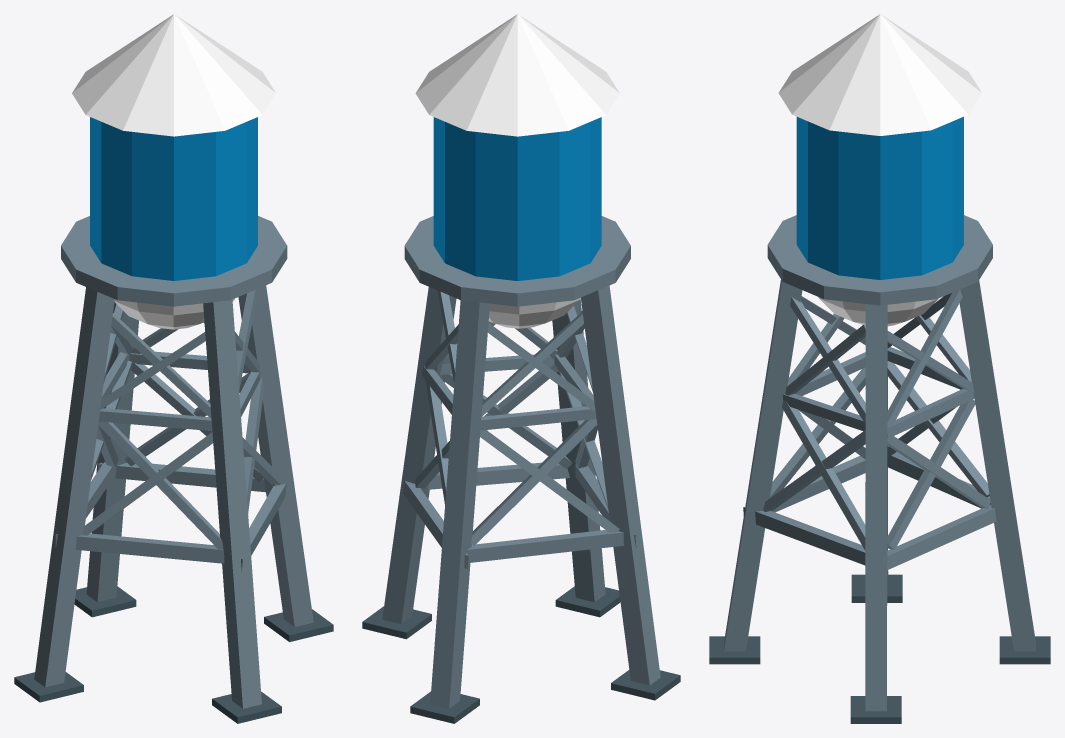
File: water tower.obj
3 views of the same model, side by side, from view 1: azimuth 30°, elevation 25°; view 2: azimuth 150°, elevation 25°; view 3: azimuth 270°, elevation 25° (orthographic).
Parts seen in each view (by area): view 1: group692706810, group413680445, group716373101, group1610138199, group1281034951, group794897842, group2114125086, group1146857087, group1001244296, group840320243, group1370172831, group1388263329 (+13 smaller); view 2: group692706810, group413680445, group2114125086, group1610138199, group1281034951, group794897842, group716373101, group144938919, group162758730, group840320243, group2053902198, group1295578310 (+15 smaller); view 3: group692706810, group413680445, group1281034951, group2114125086, group716373101, group794897842, group1388263329, group1819461890, group2112371586, group1916266686, group1399579391, group162758730 (+17 smaller).
Part boxes in pixels (bbox=[...]): group692706810: bbox=[90, 117, 257, 280]; group413680445: bbox=[72, 14, 276, 136]; group716373101: bbox=[203, 299, 281, 723]; group1610138199: bbox=[14, 287, 114, 702]; group1281034951: bbox=[238, 285, 333, 641]; group794897842: bbox=[61, 216, 287, 306]; group2114125086: bbox=[74, 302, 138, 617]; group1146857087: bbox=[55, 533, 224, 563]; group1001244296: bbox=[98, 421, 223, 549]; group840320243: bbox=[114, 298, 234, 329]; group1370172831: bbox=[98, 408, 212, 430]; group1388263329: bbox=[98, 463, 265, 492]; group692706810: bbox=[433, 117, 601, 280]; group413680445: bbox=[415, 14, 619, 136]; group2114125086: bbox=[410, 300, 489, 723]; group1610138199: bbox=[581, 285, 680, 700]; group1281034951: bbox=[362, 287, 456, 639]; group794897842: bbox=[404, 216, 630, 306]; group716373101: bbox=[552, 299, 620, 617]; group144938919: bbox=[467, 530, 623, 562]; group162758730: bbox=[471, 419, 597, 545]; group840320243: bbox=[459, 298, 580, 328]; group2053902198: bbox=[480, 430, 619, 532]; group1295578310: bbox=[480, 406, 596, 430]; group692706810: bbox=[796, 116, 963, 279]; group413680445: bbox=[778, 14, 981, 135]; group1281034951: bbox=[850, 304, 901, 723]; group2114125086: bbox=[958, 280, 1050, 664]; group716373101: bbox=[709, 279, 802, 664]; group794897842: bbox=[767, 215, 992, 305]; group1388263329: bbox=[883, 504, 996, 569]; group1819461890: bbox=[743, 506, 865, 565]; group2112371586: bbox=[887, 399, 975, 549]; group1916266686: bbox=[782, 400, 865, 549]; group1399579391: bbox=[887, 289, 962, 427]; group162758730: bbox=[887, 361, 989, 497].
Bounding box in the file's own units: 0.4639 × 0.97 × 0.4687.
